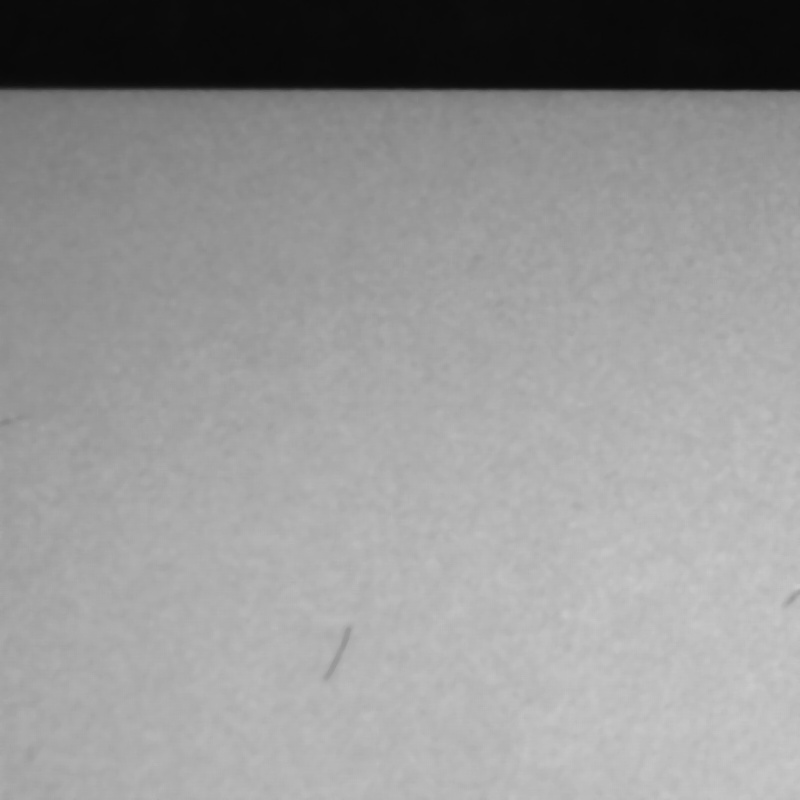defect: (318, 623, 356, 686), (779, 582, 800, 614)
